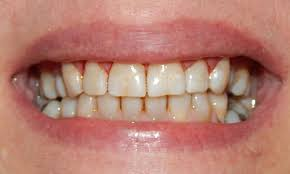decay: (36, 97, 48, 111)
normal: (211, 58, 230, 94), (38, 72, 56, 99), (232, 68, 248, 95), (79, 95, 97, 118), (59, 98, 79, 118), (54, 74, 67, 98), (226, 111, 241, 124)
rough: (234, 100, 251, 118), (44, 99, 59, 116)
yellow: (106, 62, 145, 97), (146, 63, 184, 94), (83, 62, 107, 96), (185, 59, 210, 91), (119, 95, 146, 120), (62, 65, 83, 95), (210, 94, 229, 125), (146, 94, 168, 120), (170, 94, 191, 121), (97, 94, 117, 119), (193, 94, 209, 123)
